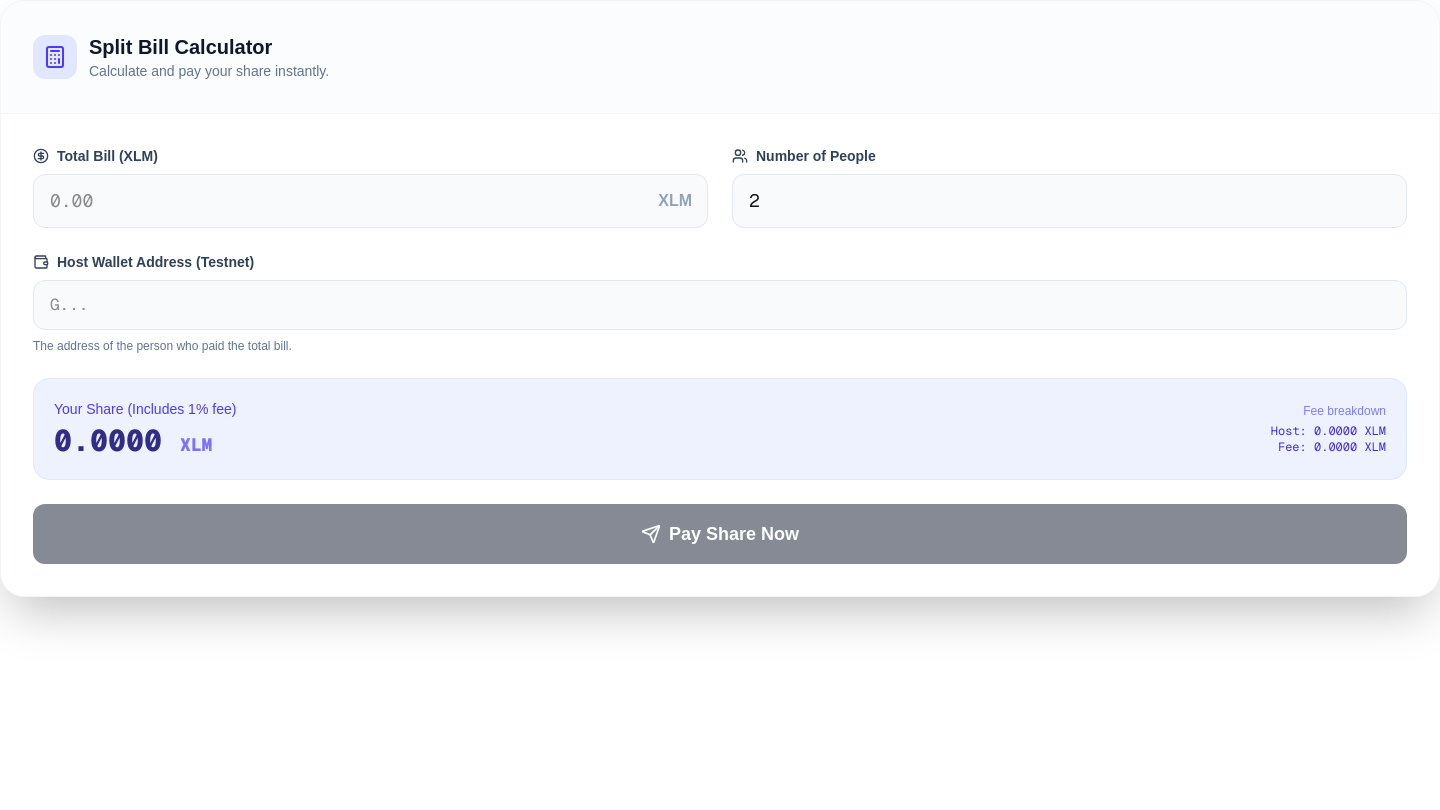
Test case: SplitBillForm Component › handles error gracefully
In the field with placeholder "G...": (720, 305) [33,280,1407,330], type "G_TEST_HOST"
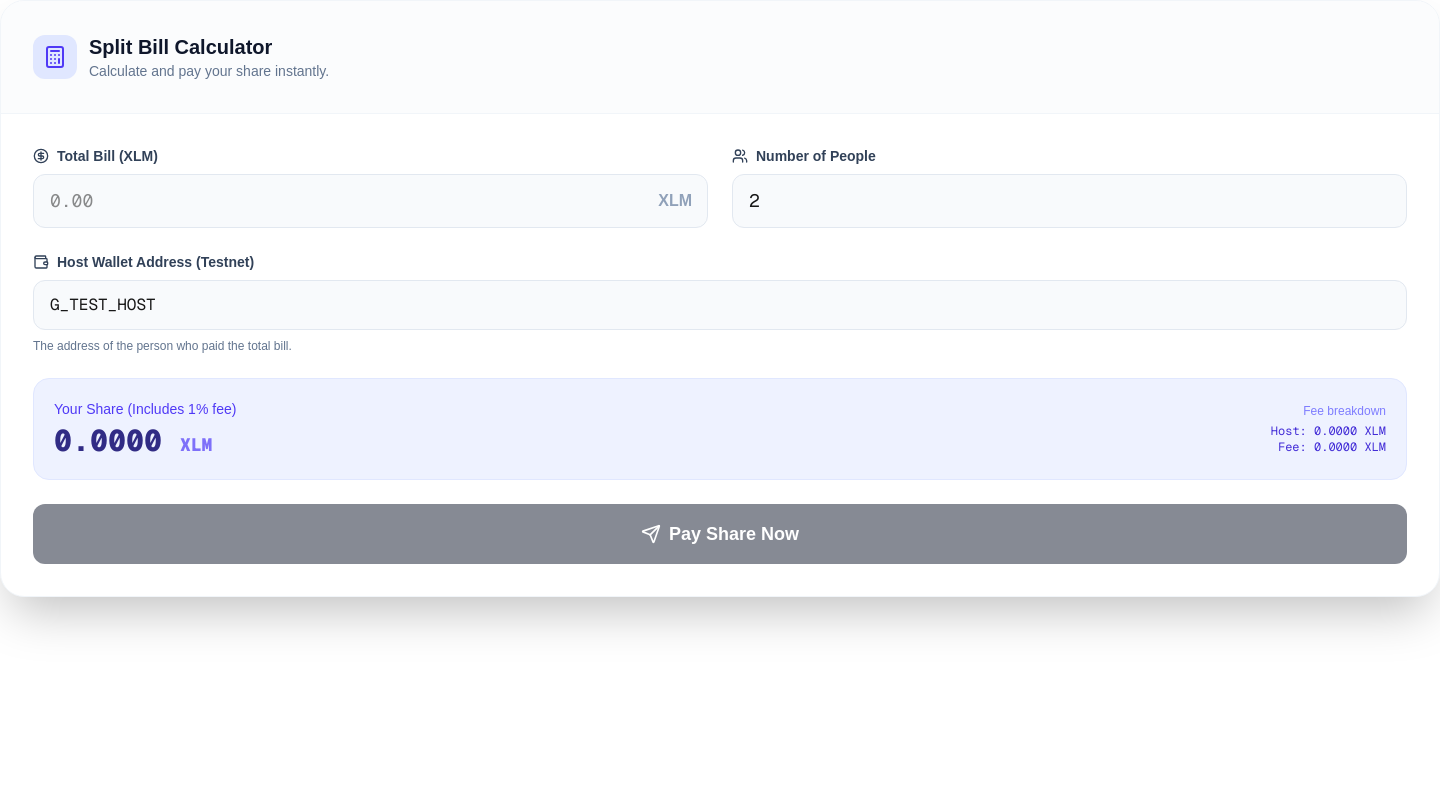
In the number field with placeholder "0.00": (370, 201) [33,174,708,228], type "10"
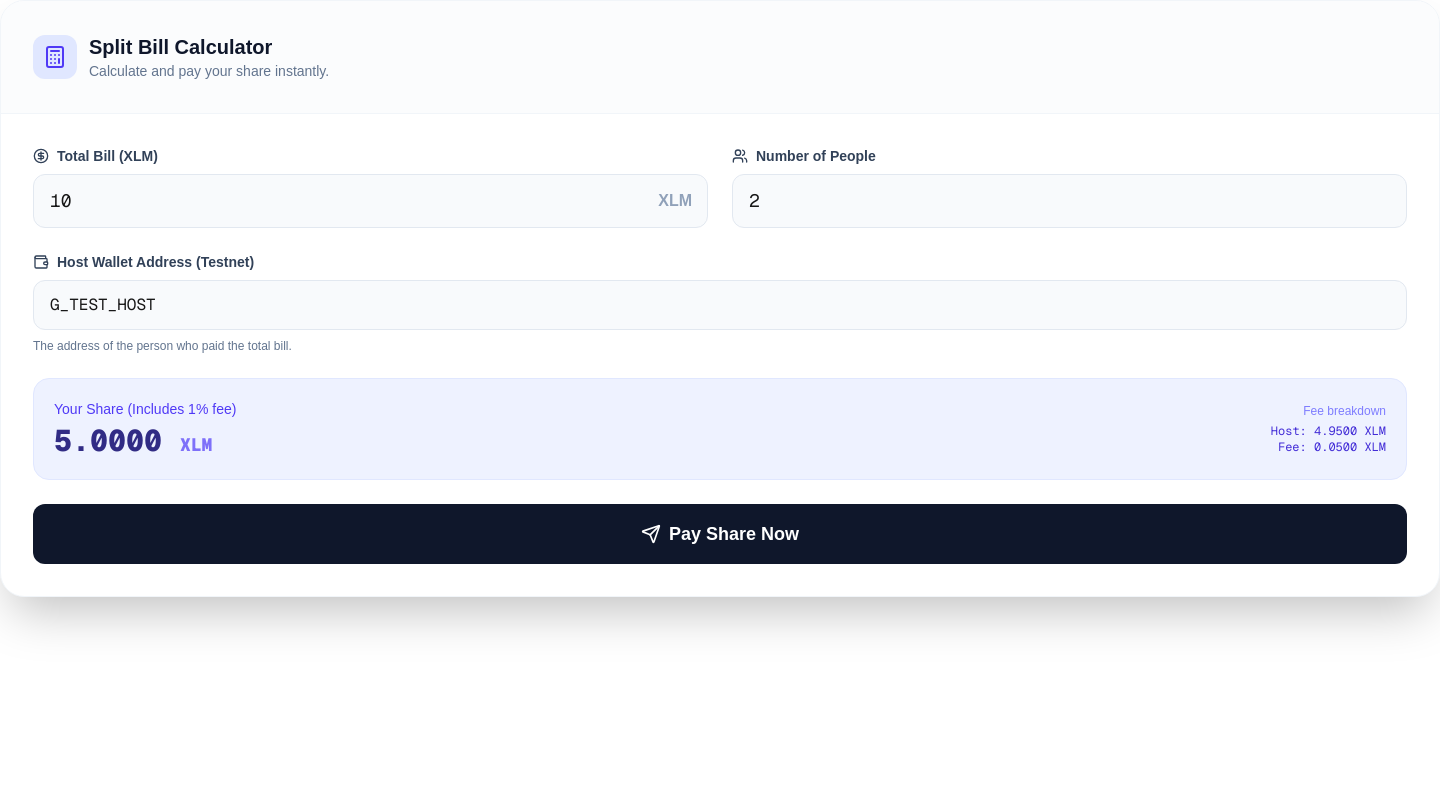
Click the button "Pay Share Now": (720, 534) [33,504,1407,564]
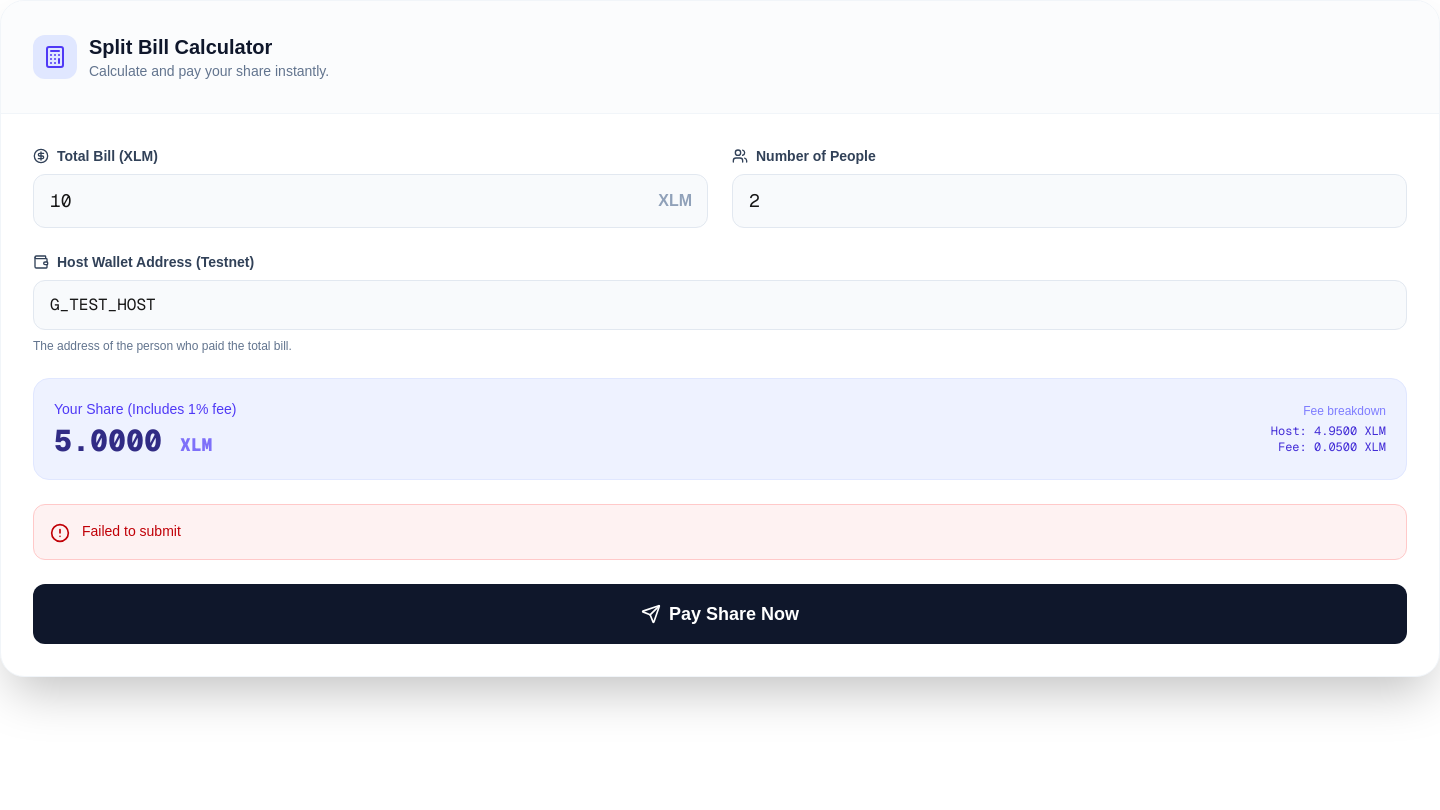
expect the text "Failed to submit" is shown: met, box [82,521,181,541]
